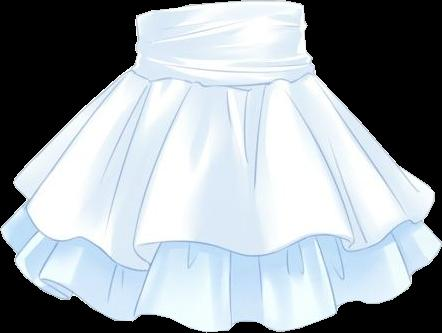Hemline: (0, 227, 441, 332), (12, 179, 436, 273)
Waistline: (129, 67, 314, 87), (135, 0, 304, 17)
